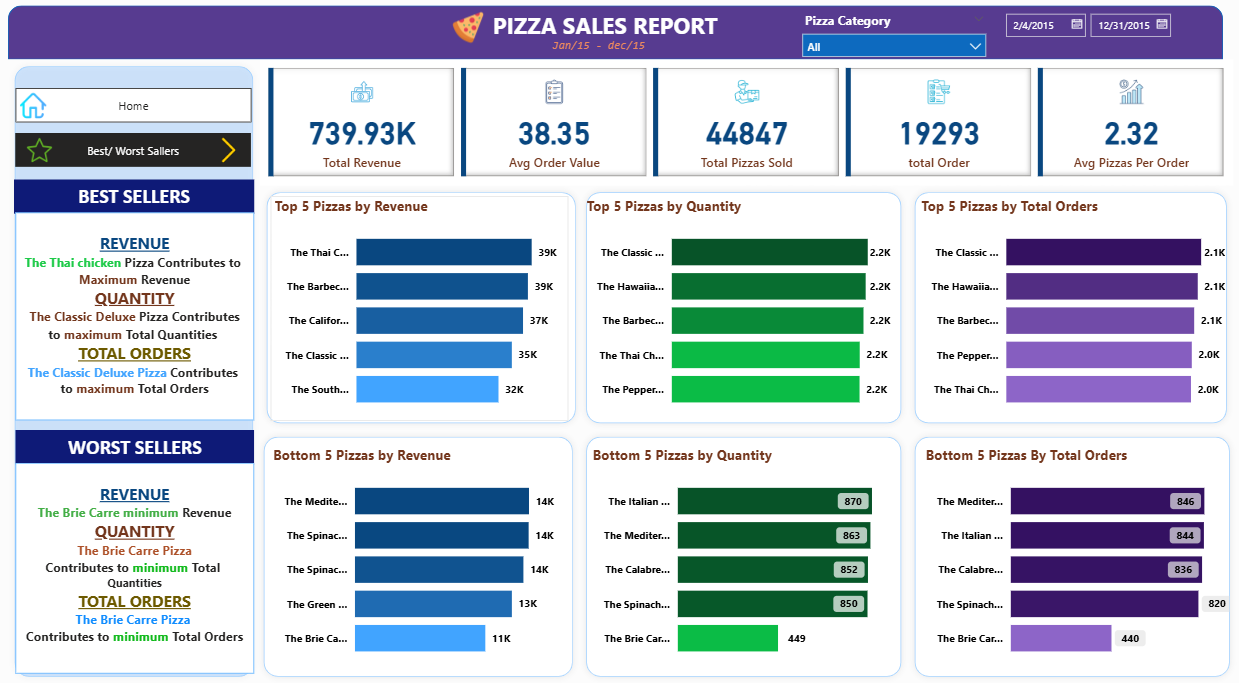

Layout of this report page (visuals, bound fields, positions):
{"tool":"powerbi","page":{"name":"Best/ Worst Sallers","canvas":[1500,820],"ordinal":1},"visuals":[{"type":"shape","box":[28.6,76.8,300,742.9],"z":0},{"type":"cardVisual","fields":{"Data":["pizza_sales.Total Revenue","pizza_sales.Total Avg Value","pizza_sales.Total Pizzas Sold","pizza_sales.total Order","pizza_sales.Avg Pizzas Per Order"]},"box":[328.6,76.8,1158.9,150],"z":1000},{"type":"shape","box":[28.6,12.5,1446.4,64.3],"z":2000},{"type":"textbox","box":[592.2,12.5,293.8,51.6],"z":3000},{"type":"textbox","box":[667.2,45.3,128.1,34.4],"z":4000},{"type":"image","box":[550,14.1,53.1,48.4],"z":5000},{"type":"shape","box":[328.6,226.8,383.9,291.1],"z":6000},{"type":"textbox","box":[35.1,219.3,286,40.4],"z":7000},{"type":"textbox","box":[36.8,259.6,284.2,247.4],"z":8000},{"type":"textbox","box":[36.8,517.5,284.2,40.4],"z":9000},{"type":"textbox","box":[36.8,557.9,284.2,250.9],"z":10000},{"type":"slicer","fields":{"Values":["pizza_sales.pizza_category"]},"box":[964.9,14,238.6,63.2],"z":11000},{"type":"slicer","fields":{"Values":["pizza_sales.order_date"]},"box":[1203.5,12.3,219.3,64.9],"z":12000},{"type":"shape","box":[708.9,226.8,391.1,291.1],"z":13000},{"type":"shape","box":[1100,226.8,387.5,291.1],"z":14000},{"type":"shape","box":[325,517.9,383.9,301.8],"z":15000},{"type":"shape","box":[708.9,517.9,391.1,301.8],"z":16000},{"type":"shape","box":[1100,517.9,391.1,301.8],"z":17000},{"type":"barChart","title":"Top 5 Pizzas by Revenue","fields":{"Category":["pizza_sales.pizza_name"],"Y":["pizza_sales.Total Revenue"]},"box":[341.1,239.3,355.4,267.9],"z":18000},{"type":"barChart","title":"Bottom 5 Pizzas by Revenue","fields":{"Category":["pizza_sales.pizza_name"],"Y":["pizza_sales.Total Revenue"]},"box":[339.3,535.7,355.4,267.9],"z":19000},{"type":"barChart","title":"Top 5 Pizzas by Quantity","fields":{"Category":["pizza_sales.pizza_name"],"Y":["pizza_sales.Total Pizzas Sold"]},"box":[712.5,239.3,371.4,267.9],"z":20000},{"type":"barChart","title":"Bottom 5 Pizzas by Quantity","fields":{"Category":["pizza_sales.pizza_name"],"Y":["pizza_sales.Total Pizzas Sold"]},"box":[719.6,535.7,371.4,267.9],"z":21000},{"type":"barChart","title":"Top 5 Pizzas by Total Orders","fields":{"Category":["pizza_sales.pizza_name"],"Y":["pizza_sales.total Order"]},"box":[1110.7,239.3,371.4,267.9],"z":22000},{"type":"barChart","title":"Bottom 5 Pizzas By Total Orders","fields":{"Category":["pizza_sales.pizza_name"],"Y":["pizza_sales.total Order"]},"box":[1116.1,535.7,371.4,267.9],"z":23000},{"type":"pageNavigator","box":[38.3,165,280,40],"z":24000},{"type":"pageNavigator","box":[36.7,110,281.7,41.7],"z":25000},{"type":"image","box":[265,165,53.3,40],"z":26000},{"type":"image","box":[38.3,110,41.7,41.7],"z":27000},{"type":"image","box":[41.7,165,50,40],"z":28000}]}

Visuals, with their boxes in screenshot pixels (x1, y1, x2, y2), scaled from the page's 1500x820 canvas onto the 1239x683 screenshot:
shape: (24,64,271,682)
cardVisual - pizza_sales.Total Revenue x pizza_sales.Total Avg Value: (271,64,1229,189)
shape: (24,10,1218,64)
textbox: (489,10,732,53)
textbox: (551,38,657,66)
image: (454,12,498,52)
shape: (271,189,589,431)
textbox: (29,183,265,216)
textbox: (30,216,265,422)
textbox: (30,431,265,465)
textbox: (30,465,265,674)
slicer - pizza_sales.pizza_category: (797,12,994,64)
slicer - pizza_sales.order_date: (994,10,1175,64)
shape: (586,189,909,431)
shape: (909,189,1229,431)
shape: (268,431,586,682)
shape: (586,431,909,682)
shape: (909,431,1232,682)
"Top 5 Pizzas by Revenue" barChart: (282,199,575,422)
"Bottom 5 Pizzas by Revenue" barChart: (280,446,574,669)
"Top 5 Pizzas by Quantity" barChart: (589,199,895,422)
"Bottom 5 Pizzas by Quantity" barChart: (594,446,901,669)
"Top 5 Pizzas by Total Orders" barChart: (917,199,1224,422)
"Bottom 5 Pizzas By Total Orders" barChart: (922,446,1229,669)
pageNavigator: (32,137,263,171)
pageNavigator: (30,92,263,126)
image: (219,137,263,171)
image: (32,92,66,126)
image: (34,137,76,171)
